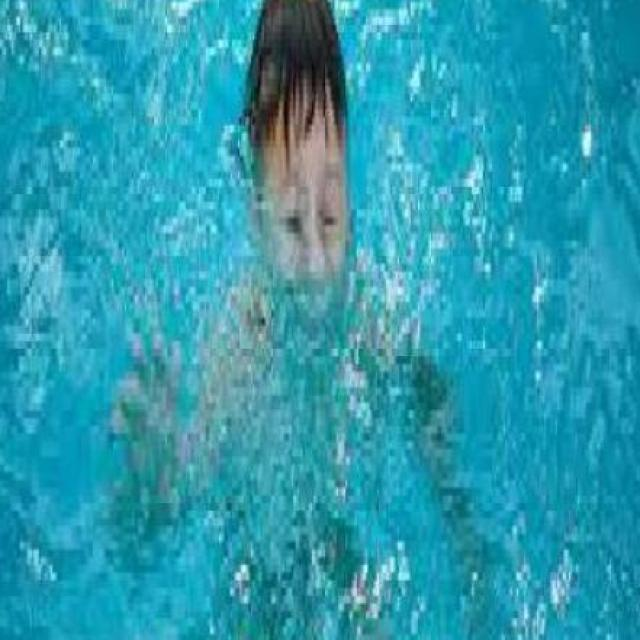Drowning: (124, 0, 483, 524)
